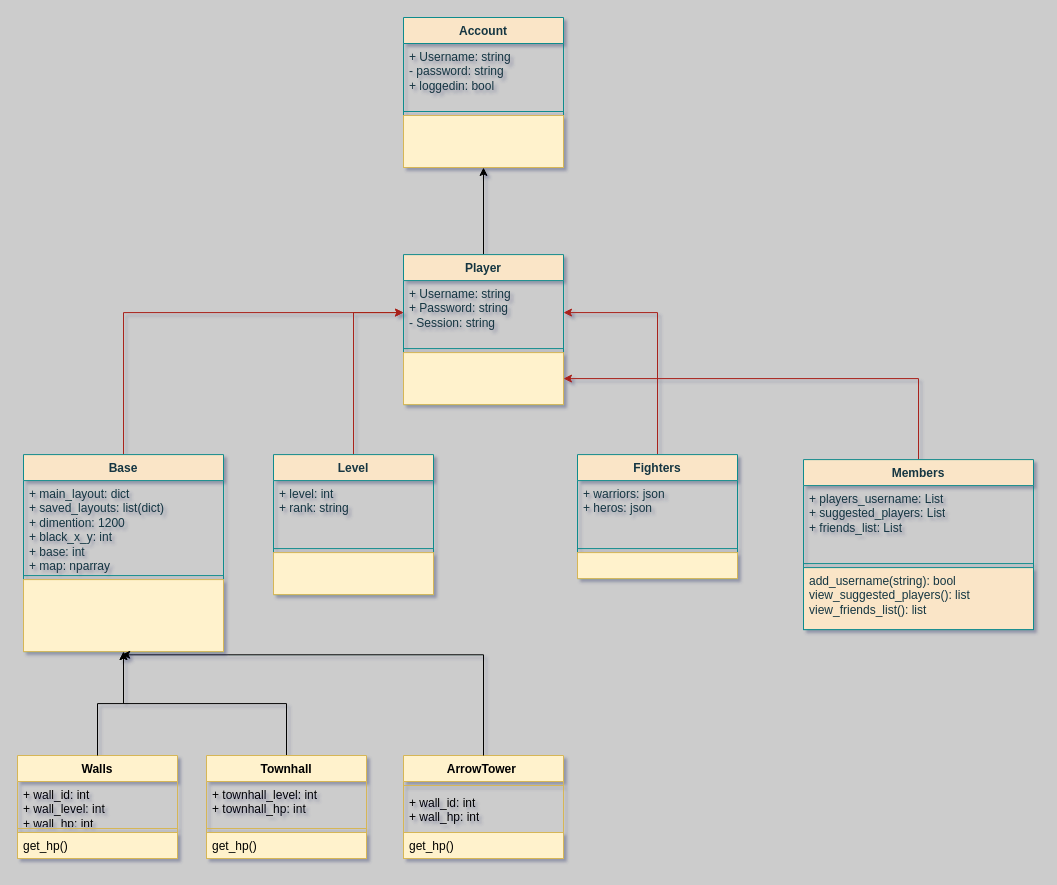
Some shapes in this 1057 by 885 pixel diagram are drawn without their labels. The shapes that lost their labels are listed below. From the top down, each one's centre as x and y in pixels, then its label:
At (x=483, y=141): "- get_password(): String + register(): Bool + login(): String".
At (x=483, y=378): "+ get_username(): str + view_friends(): list".
At (x=353, y=573): "get_level() get_rank()".
At (x=657, y=565): "get_hp".
At (x=123, y=615): "+ get_main_layout(): dict - get_saved_layouts(): list(dict)".
